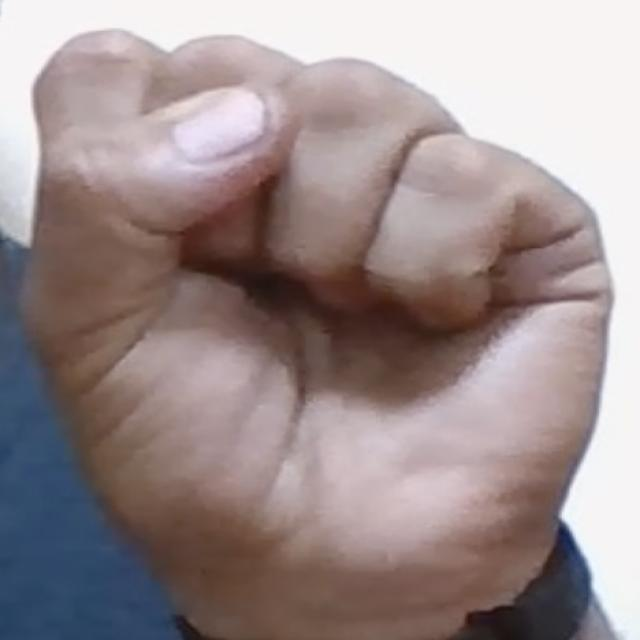S: (24, 18, 618, 596)
